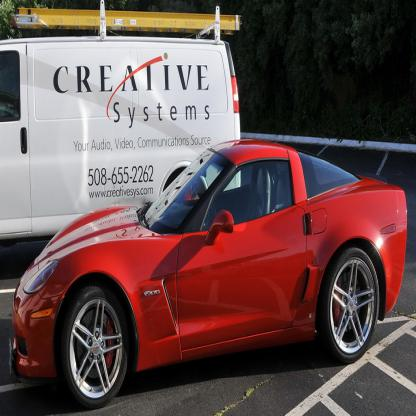Car: (9, 138, 408, 409)
